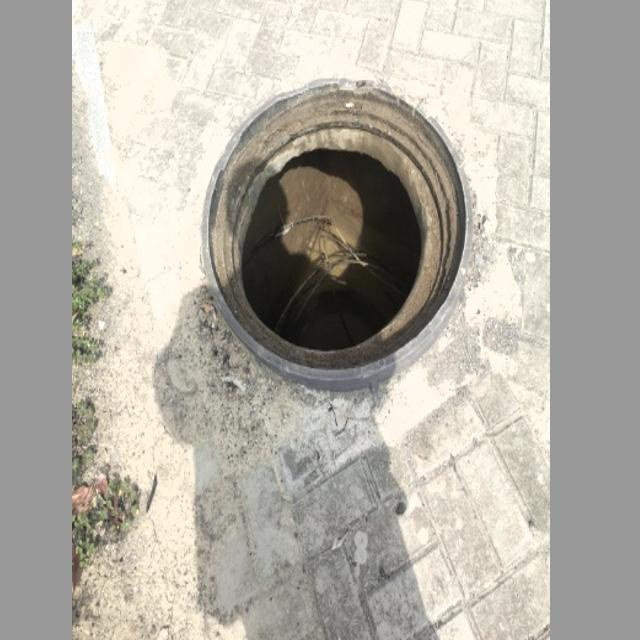lose: (172, 56, 482, 383)
